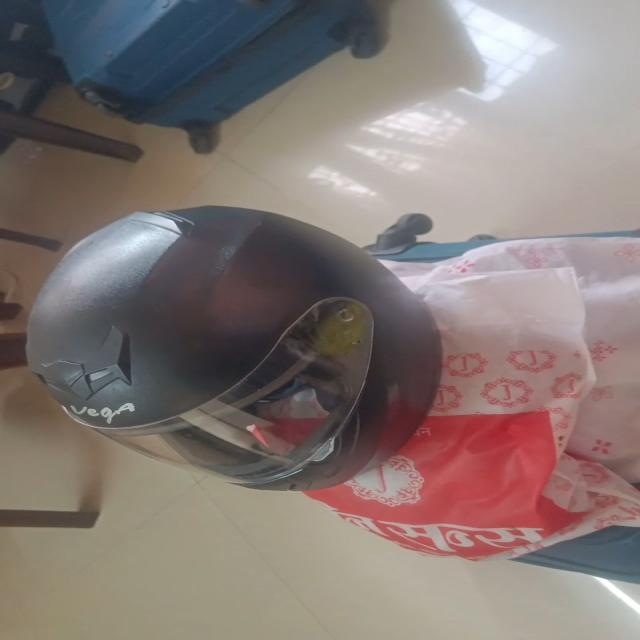Helmet: (27, 206, 444, 494)
